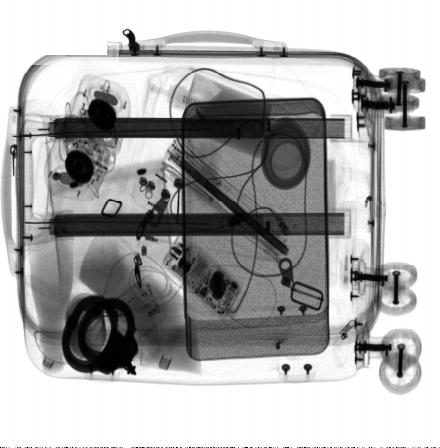HandCuffs: (62, 293, 140, 377)
